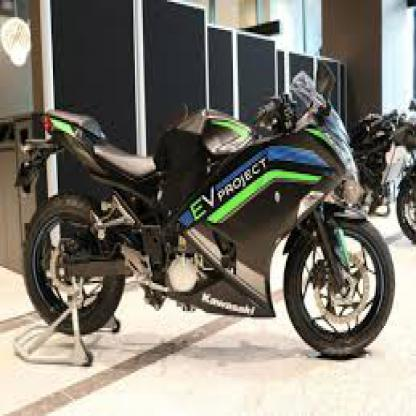Motorcycle: (15, 71, 397, 366)
